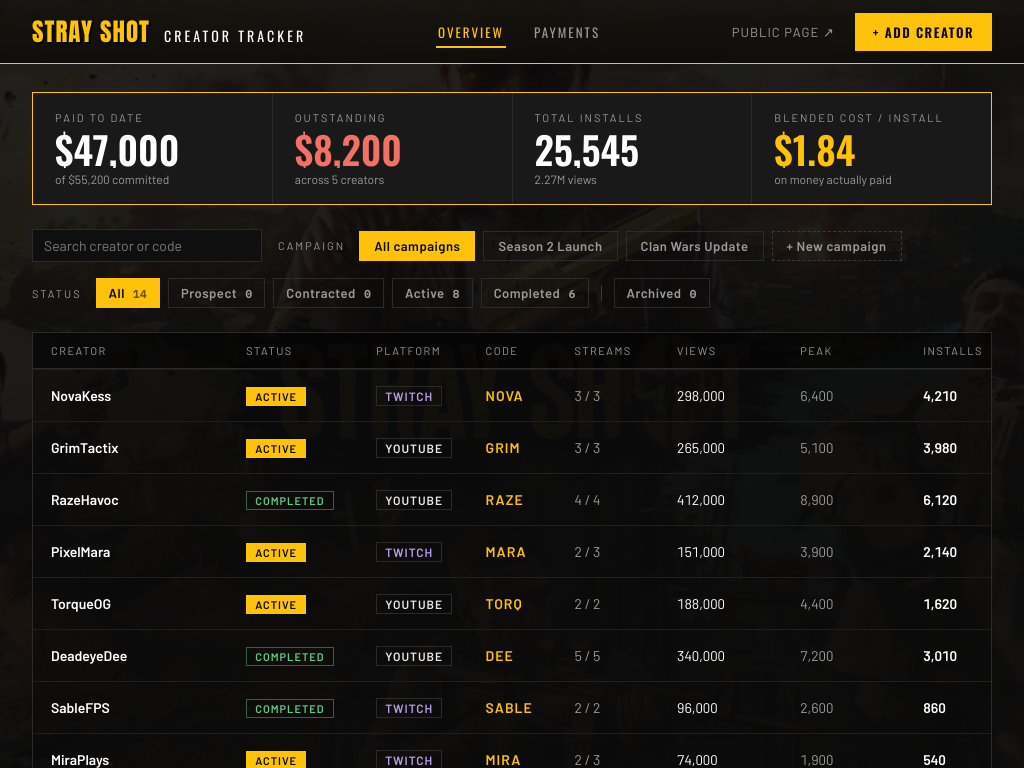
Test case: adding a creator › refuses to save and send without an email, since that is where the invite goes
The width and height of the screenshot is (1024, 768).
Click the button "+ Add creator" at (923, 32), box [855,12,992,50]
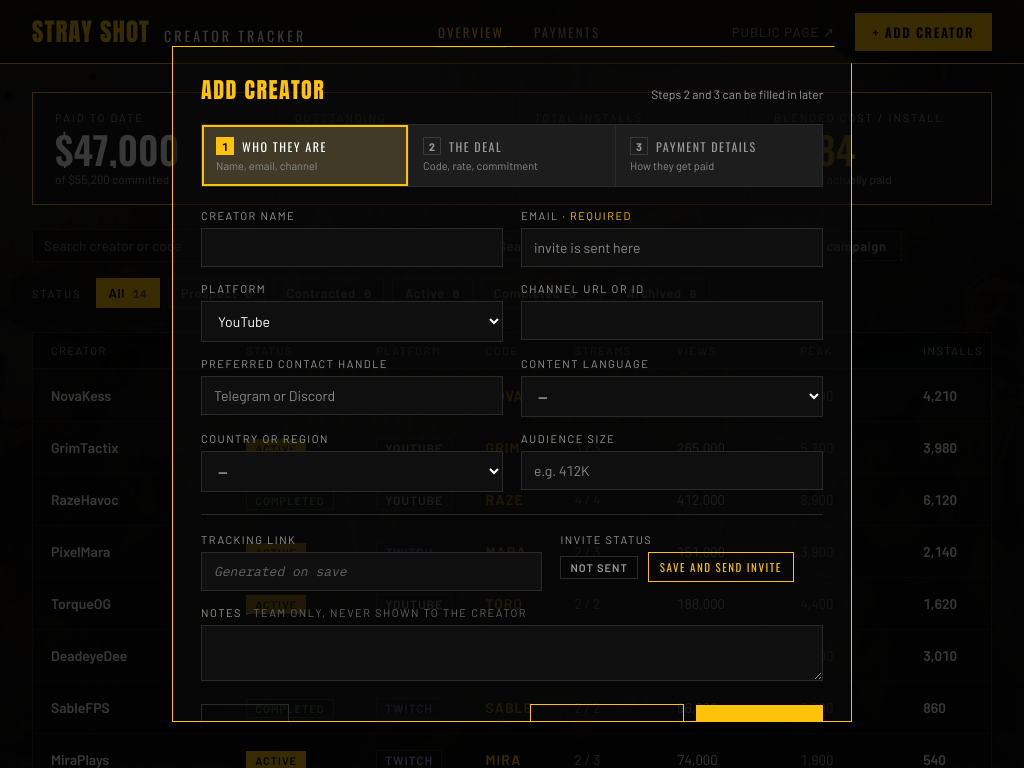
Type "AshFall" into the field named "Creator name" at (352, 248), box [201,228,503,267]
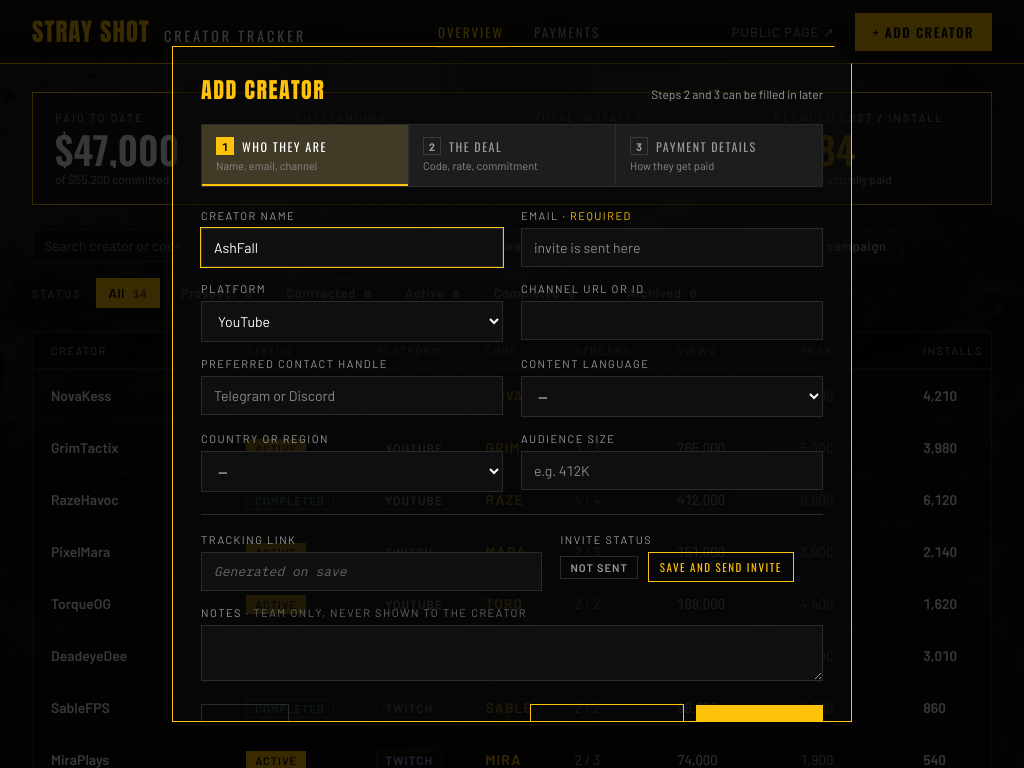
Click the button "Save and send invite" at (721, 567), box [648,552,794,582]
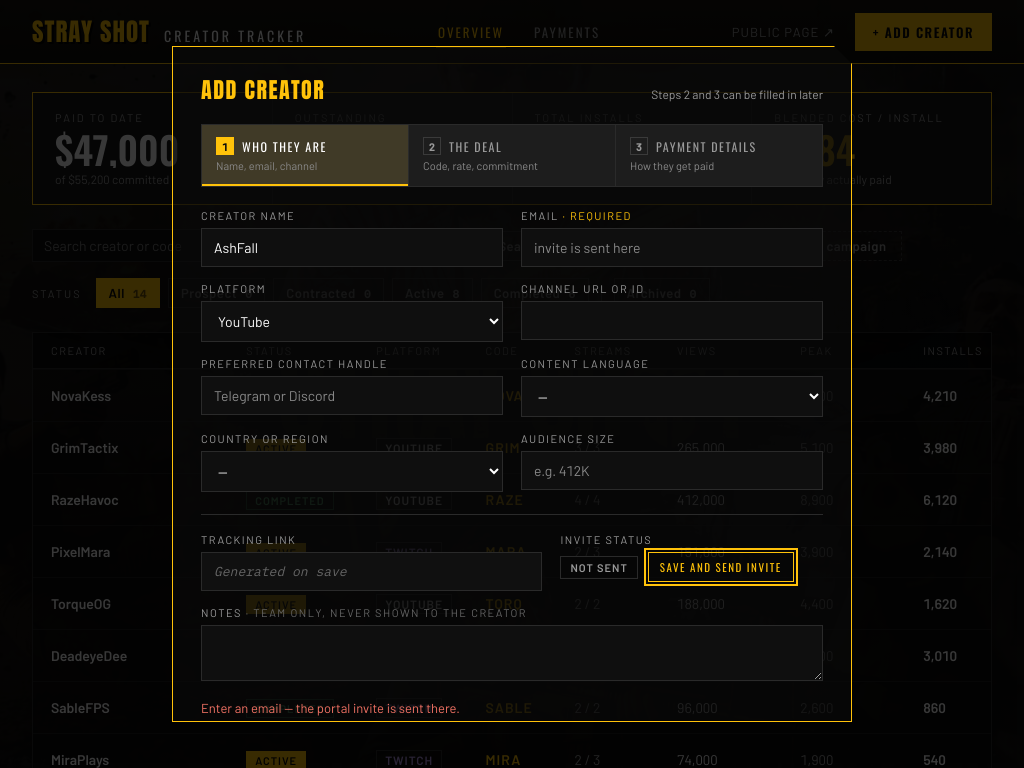
Expected: the dialog is shown, [172,46,852,722]
Expected: the message shows "invite is sent there", [201,700,460,716]
